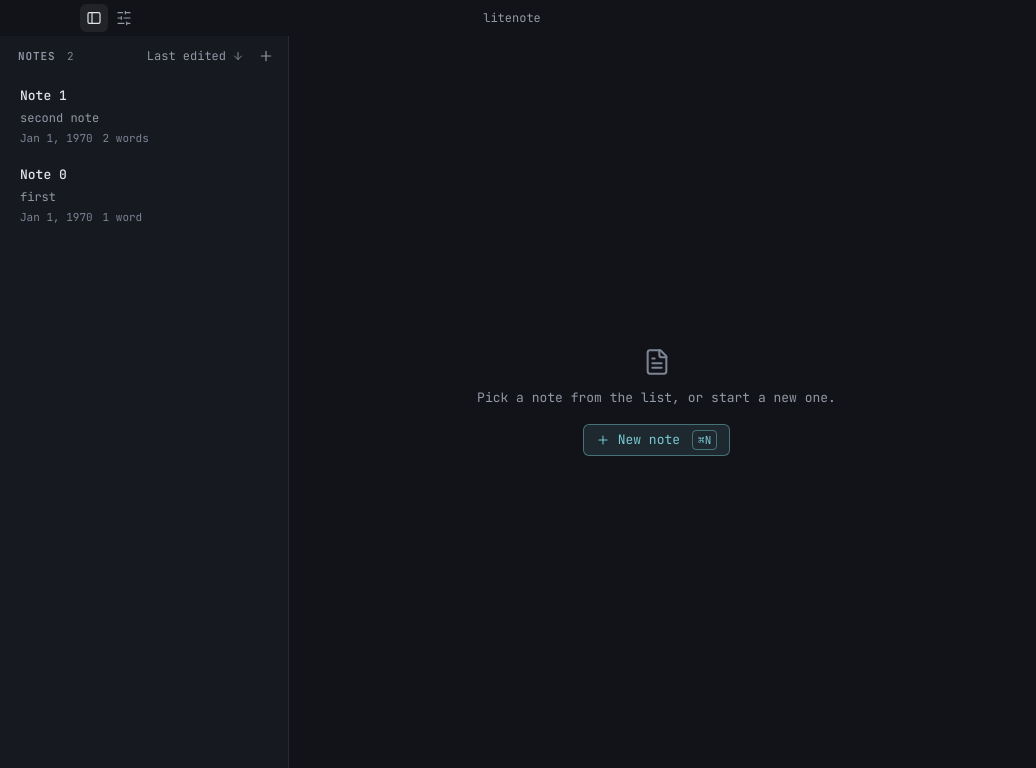
App › saves the last edit straight away when switching notes
The width and height of the screenshot is (1036, 768).
Click the text "Note 1".
click(43, 96)  # box [20,87,67,104]
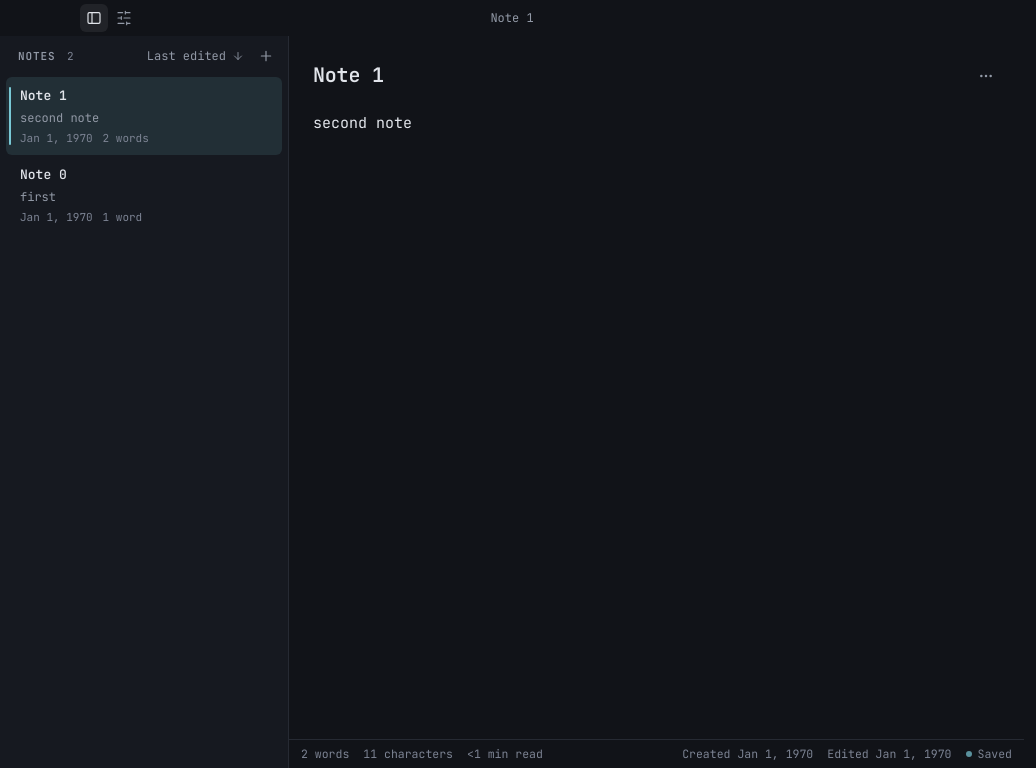
Type "!" into the text box named "Note text".
click(656, 419); type("!")  # box [289,99,1024,739]
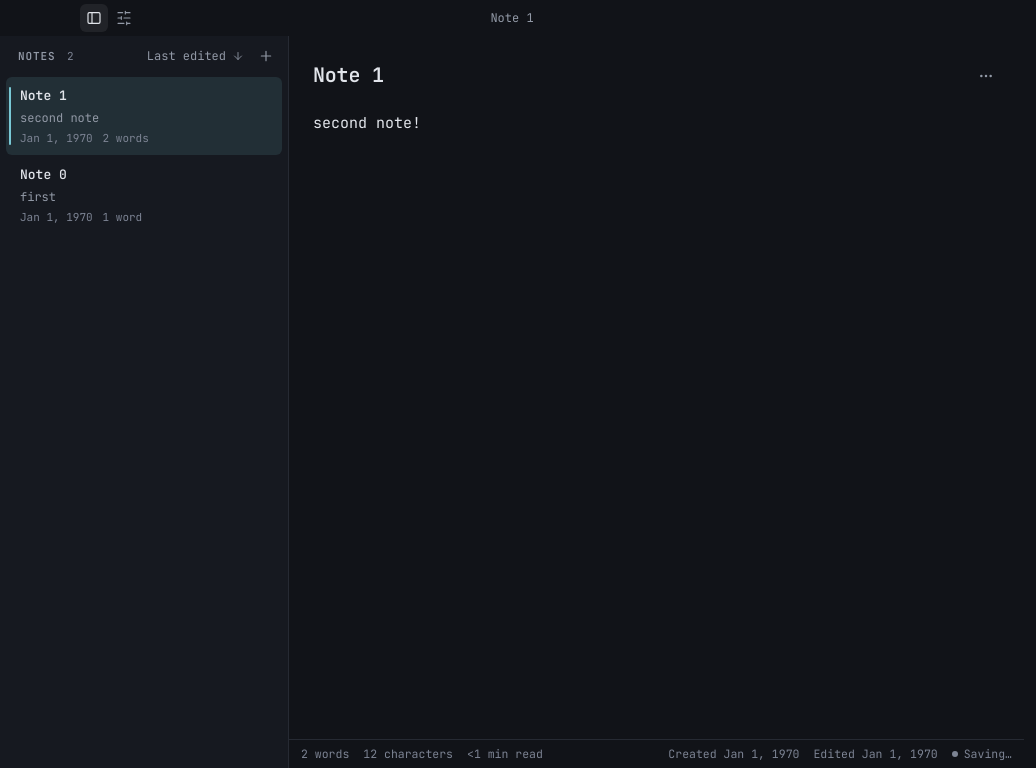
Click the text "Note 0".
click(43, 174)  # box [20,166,67,183]
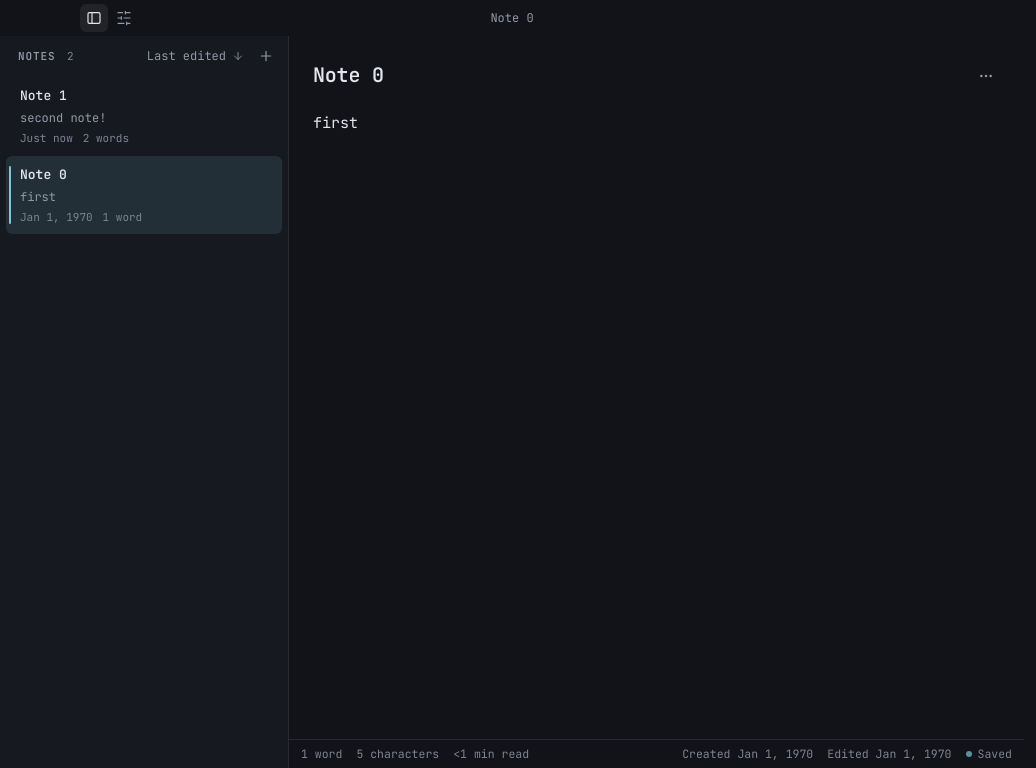
Result: the text "second note!" is shown at [20,108,106,126]
Result: the text box named "Note text" holds "first" at [289,99,1024,739]
